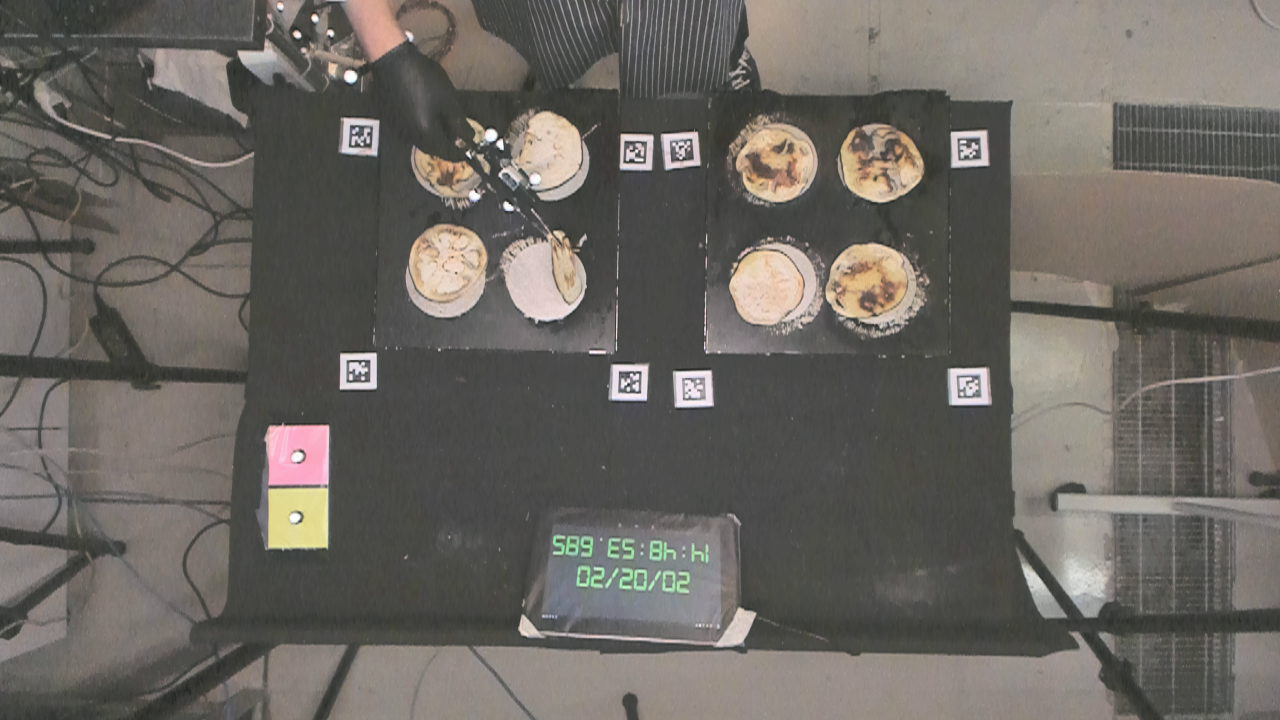eggplant: (403, 220, 489, 305), (841, 118, 923, 200), (412, 117, 491, 198), (825, 242, 906, 317), (737, 124, 813, 199), (729, 251, 802, 326), (516, 114, 581, 189), (549, 230, 583, 306)
marker: (269, 424, 330, 485)
